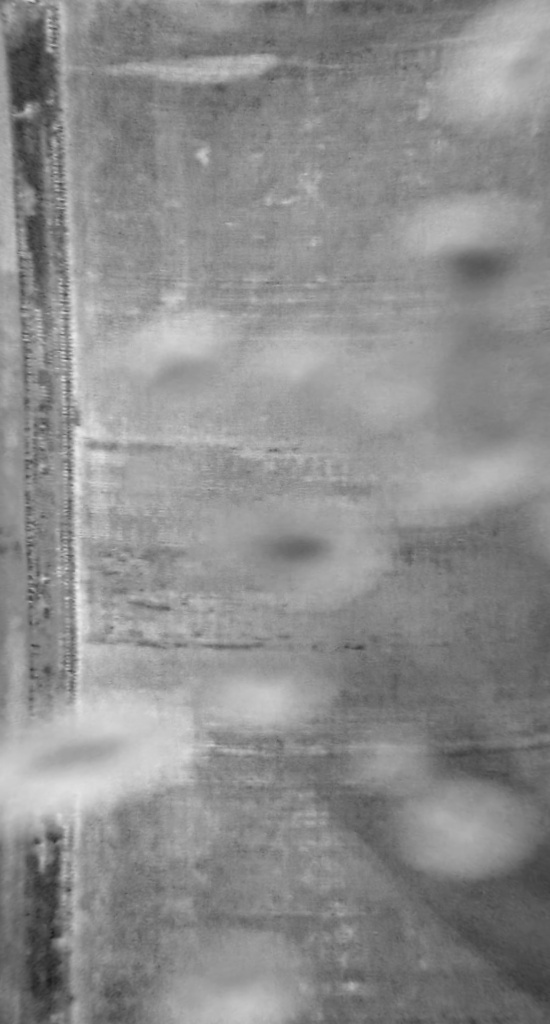splice: (1, 1, 97, 1024)
